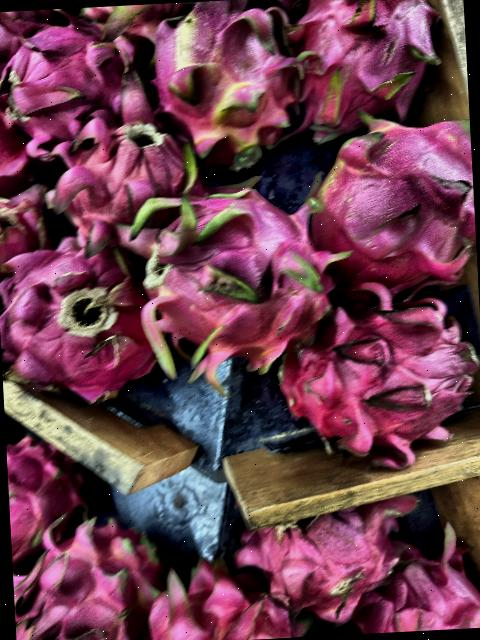buah-naga-belum-matang: (298, 101, 478, 291), (151, 0, 293, 158)
buah-naga-matang: (126, 170, 322, 376), (267, 297, 480, 448), (0, 229, 153, 400), (43, 114, 202, 244), (226, 498, 420, 604), (281, 0, 434, 128), (0, 18, 146, 147), (10, 519, 152, 640), (139, 551, 305, 640), (356, 529, 480, 633), (6, 429, 73, 542)
